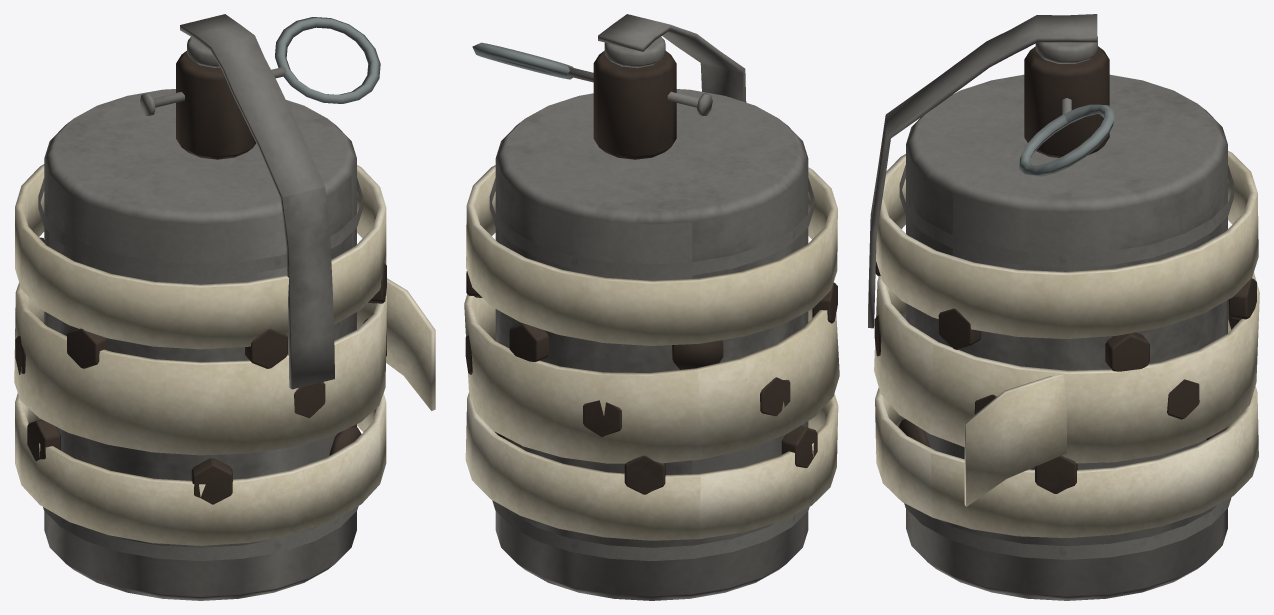
Rendered from prop_frag_01.gltf.
The picture shows the model from 3 angles, left to right: view 1: azimuth 30°, elevation 25°; view 2: azimuth 150°, elevation 25°; view 3: azimuth 270°, elevation 25°; orthographic projection. The views are drawn at different scales.
Visible parts, largest first — view 1: prop_frag_01_item_atlas_01; view 2: prop_frag_01_item_atlas_01; view 3: prop_frag_01_item_atlas_01.
Boxes of the visible parts, left/top/right/bottom form: prop_frag_01_item_atlas_01: left=14, top=14, right=435, bottom=600; prop_frag_01_item_atlas_01: left=464, top=14, right=839, bottom=600; prop_frag_01_item_atlas_01: left=868, top=14, right=1259, bottom=600.
Size of the model in its own units: 0.0823 by 0.114 by 0.0778.
Materials: 1 (1 with a texture image).
